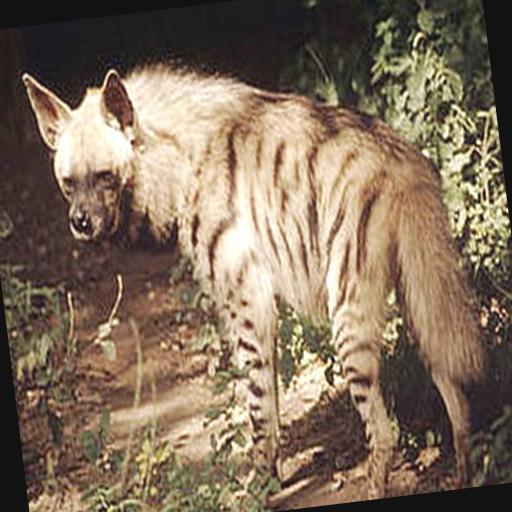hyenas: (20, 4, 512, 504)
